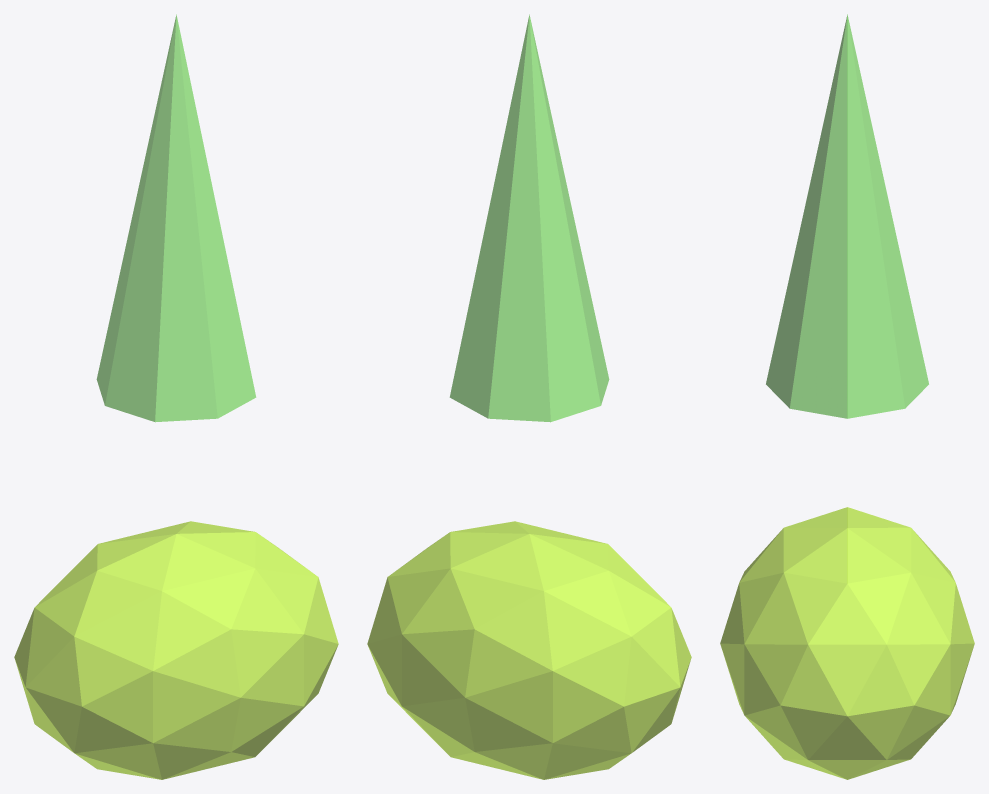
Rendered from vfx_venom_projectile.glb.
3 views of the same model, side by side, from view 1: azimuth 30°, elevation 25°; view 2: azimuth 150°, elevation 25°; view 3: azimuth 270°, elevation 25° (orthographic).
Parts seen in each view (by area): view 1: core, trail; view 2: core, trail; view 3: core, trail.
Boxes of the visible parts, x1,y1,x2,y2 form: core: [14, 521, 338, 779]; trail: [96, 14, 256, 422]; core: [367, 521, 691, 779]; trail: [449, 14, 609, 422]; core: [720, 507, 974, 779]; trail: [766, 14, 928, 418].
Size of the model in its own units: 0.506 by 1.21 by 0.374.
